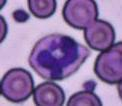N: (28, 33, 90, 80)
